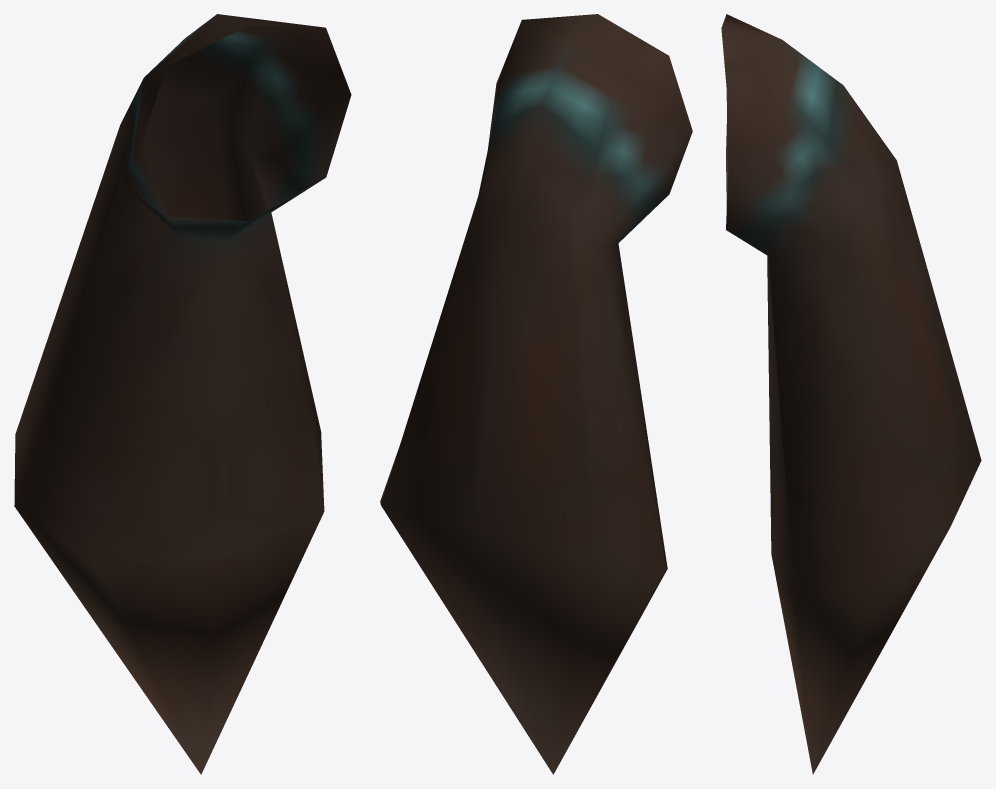
The model's file is hair_female_pony_01.fbx.
The picture shows the model from 3 angles, left to right: view 1: azimuth 30°, elevation 25°; view 2: azimuth 150°, elevation 25°; view 3: azimuth 270°, elevation 25°; orthographic projection. The views are drawn at different scales.
Visible parts, largest first — view 1: hair_scientistF_pony_01; view 2: hair_scientistF_pony_01; view 3: hair_scientistF_pony_01.
Boxes of the visible parts, bbox=[...] form: hair_scientistF_pony_01: bbox=[14, 14, 351, 774]; hair_scientistF_pony_01: bbox=[380, 14, 692, 774]; hair_scientistF_pony_01: bbox=[721, 14, 981, 774].
Bounding box in the file's own units: 2.67 × 6.52 × 2.06.
